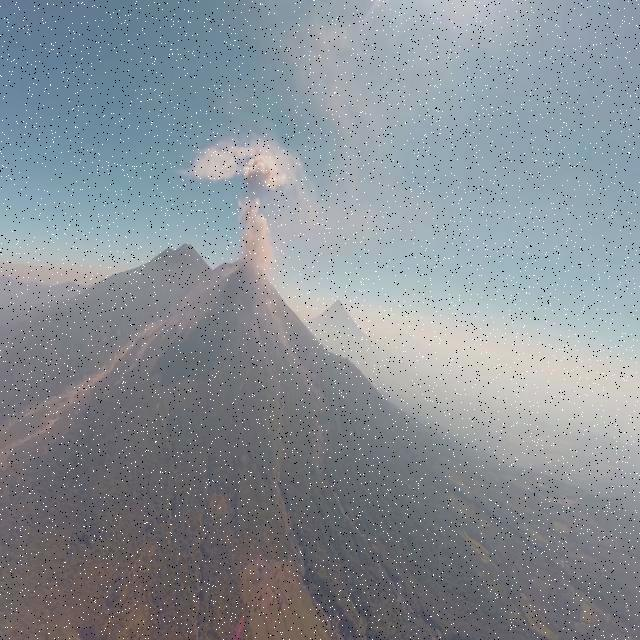Plume: (236, 191, 278, 273), (240, 154, 294, 192)
